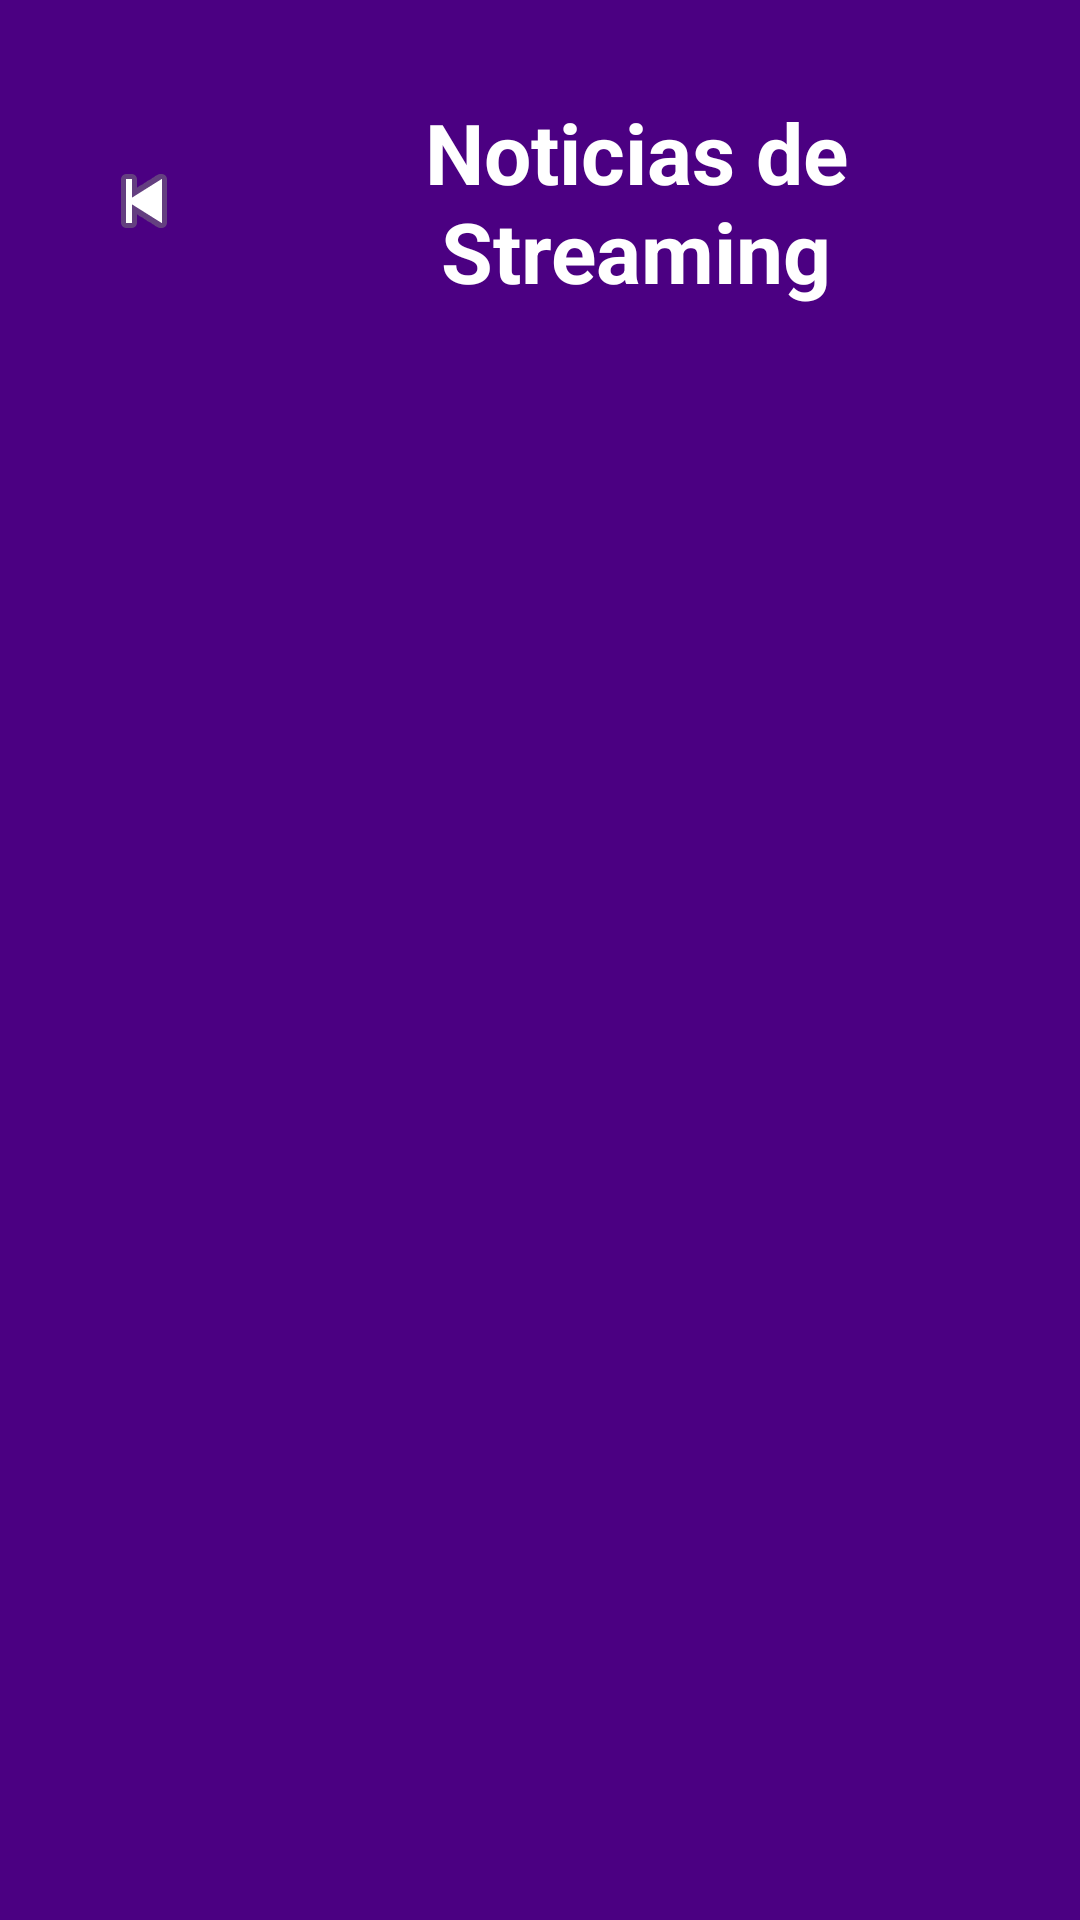

Icon bounding boxes for this 1080px x 1920px phone screenshot, format rect(x1, y1, x2, y2):
Retroceder: rect(121, 174, 167, 228)
